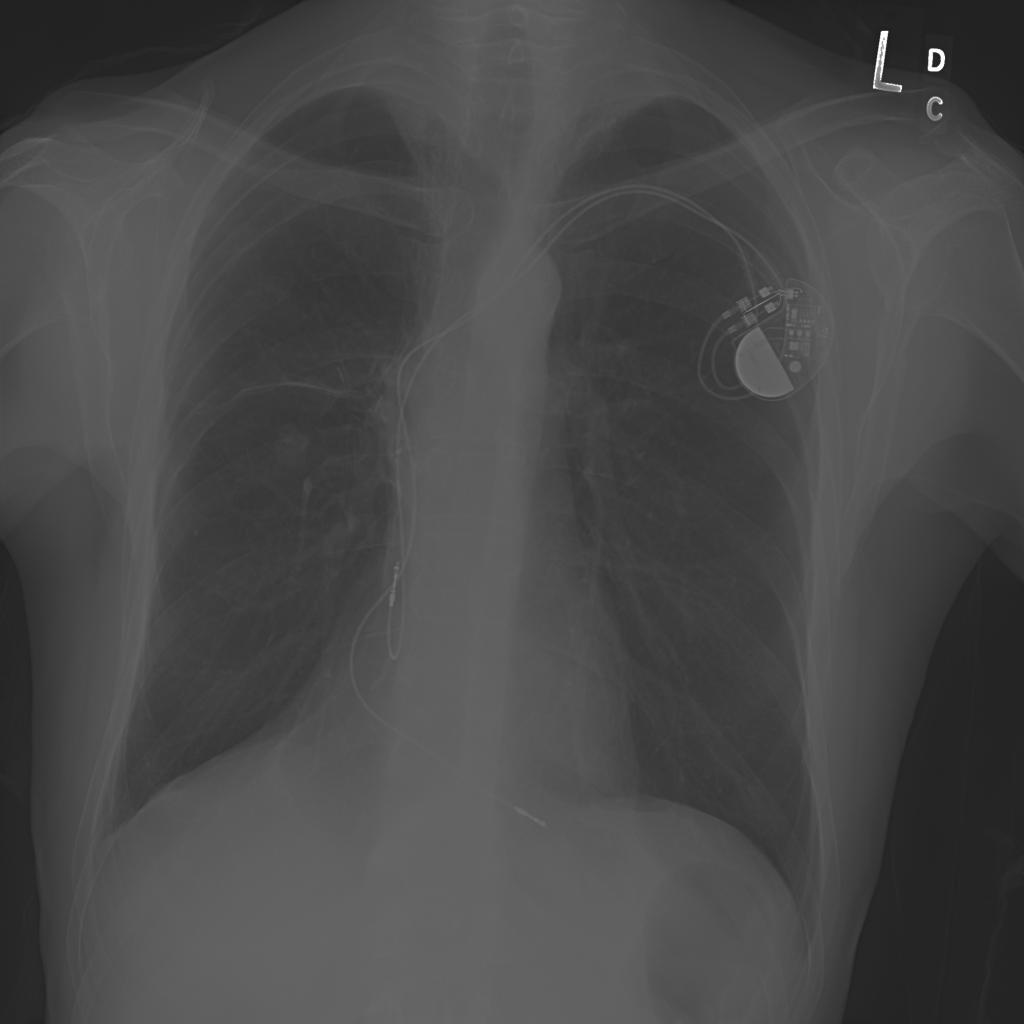Nodule: (134, 210, 162, 244)
